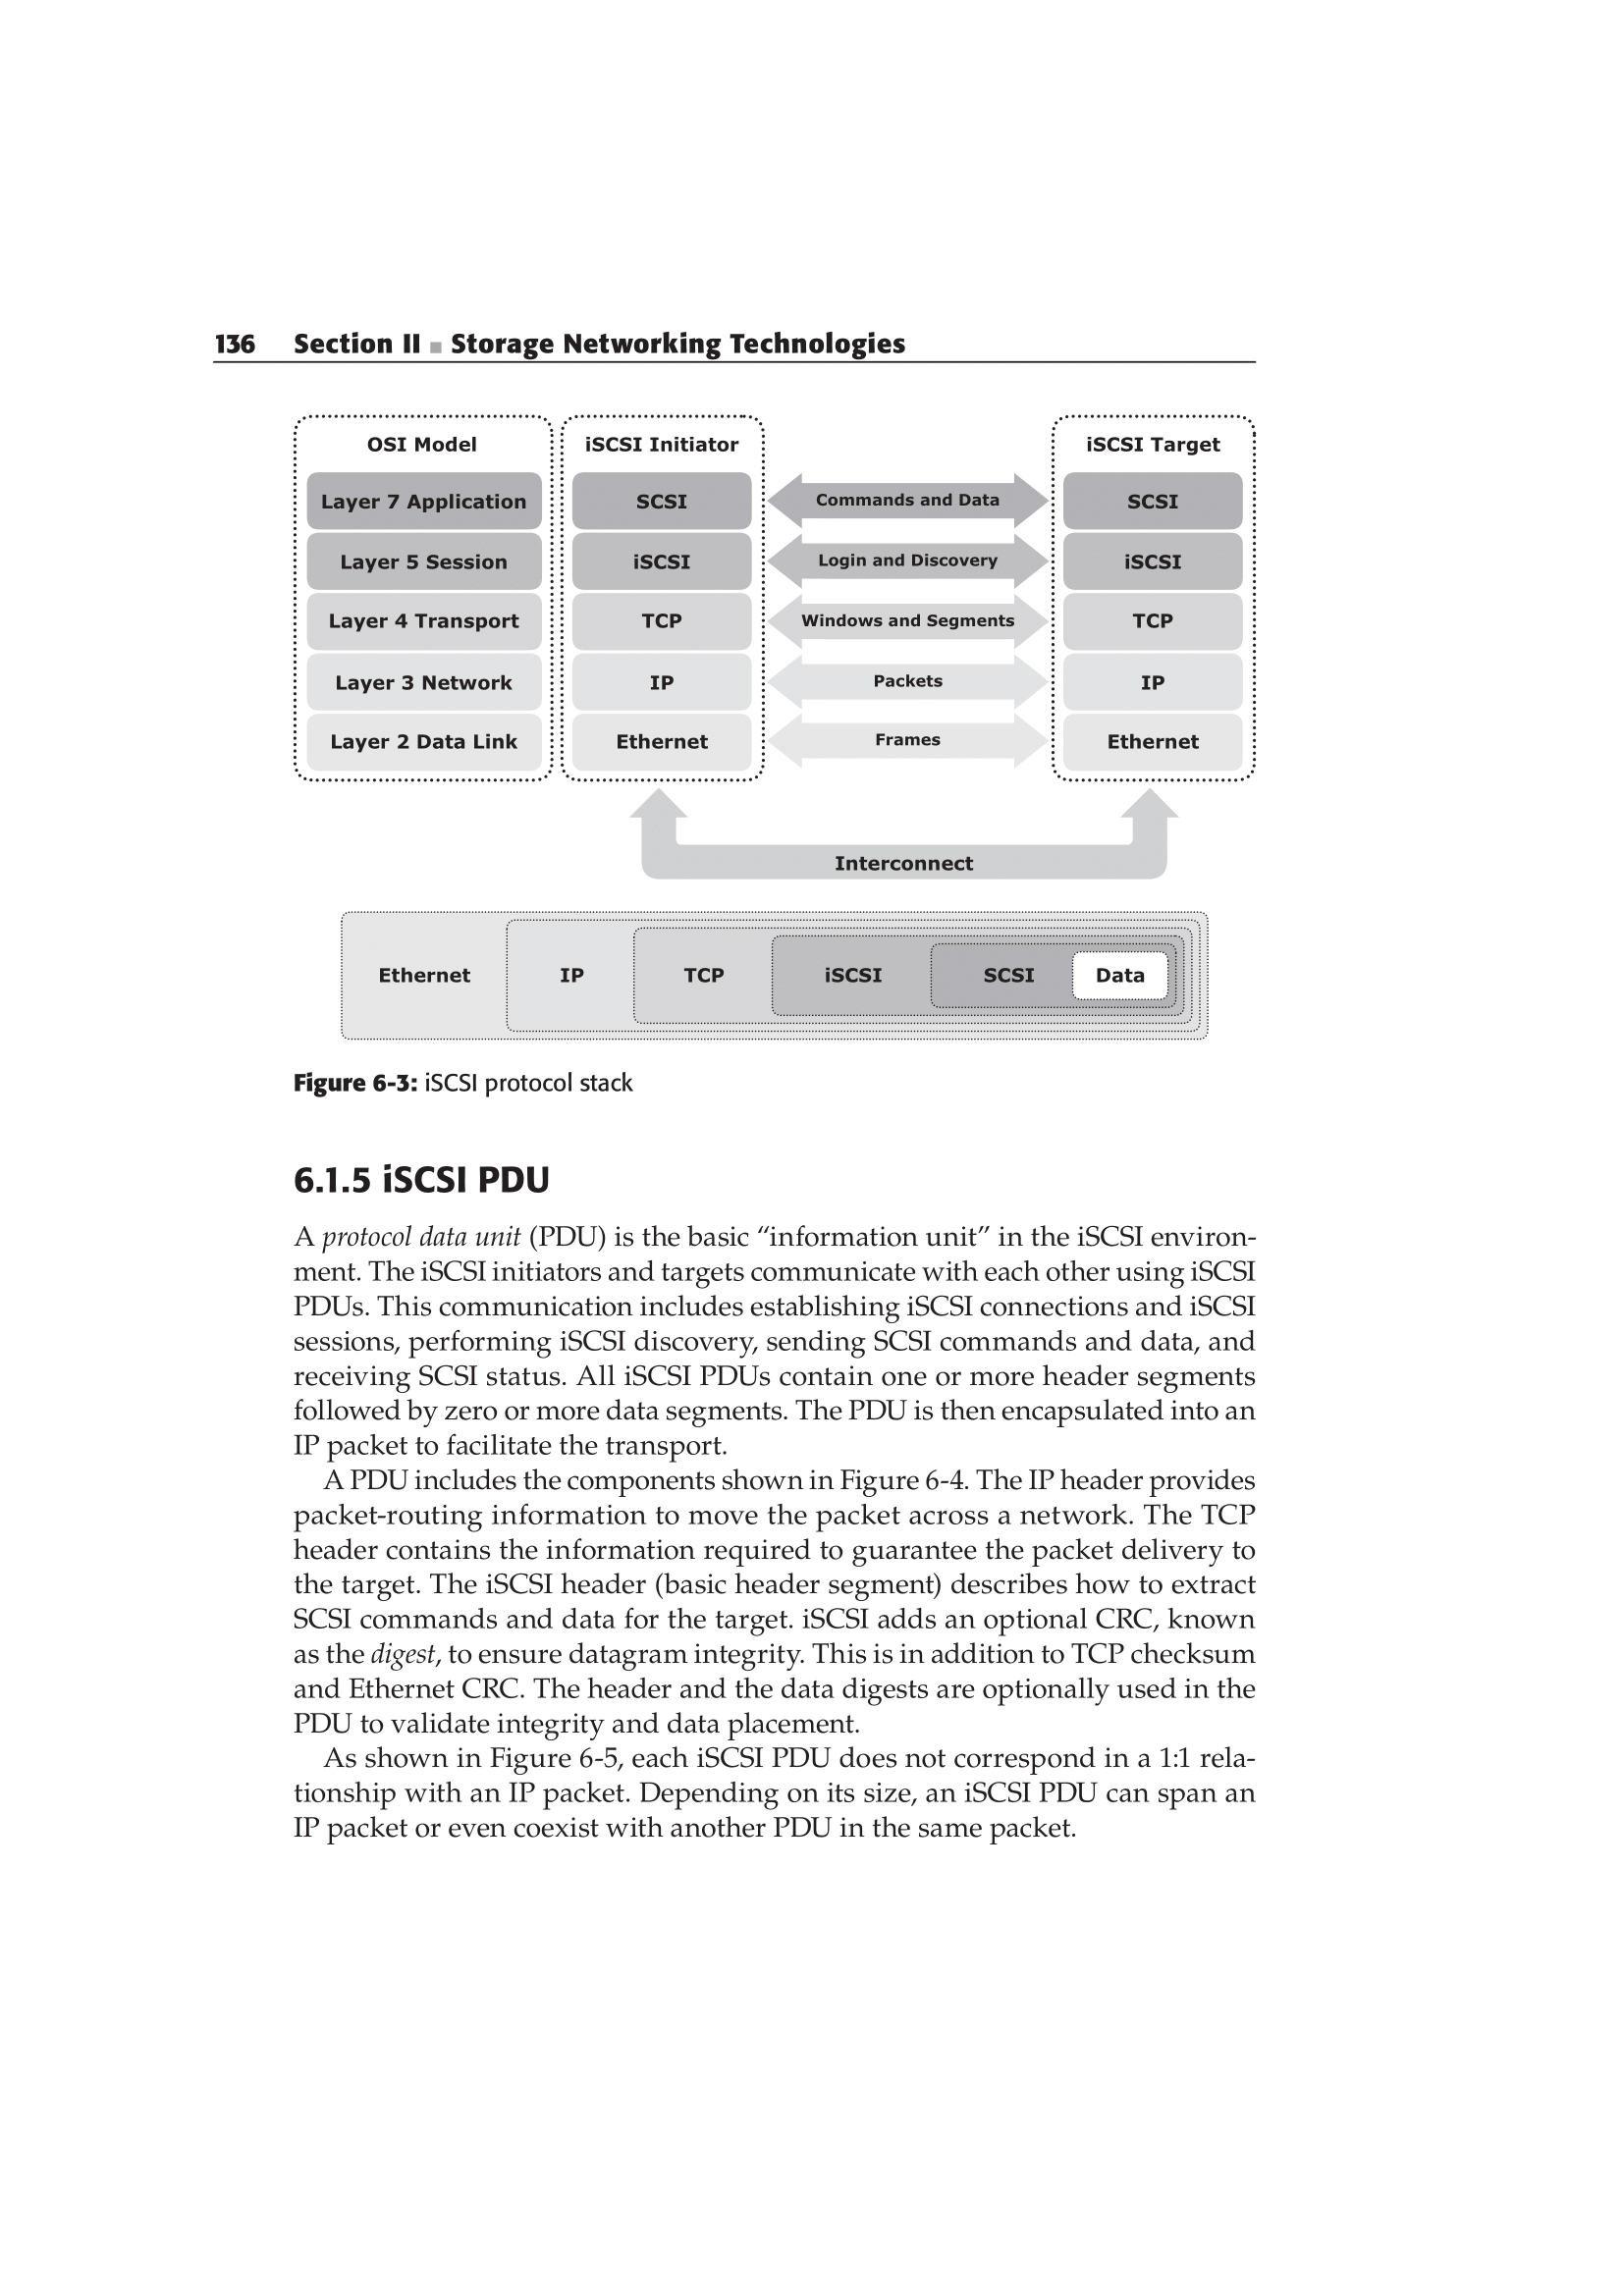Image: (260, 397, 1319, 1058)
Paragraph: (292, 1466, 1279, 1740), (283, 1223, 1259, 1457), (288, 1748, 1259, 1848), (160, 302, 927, 365), (256, 1150, 571, 1209), (288, 1064, 653, 1113)
